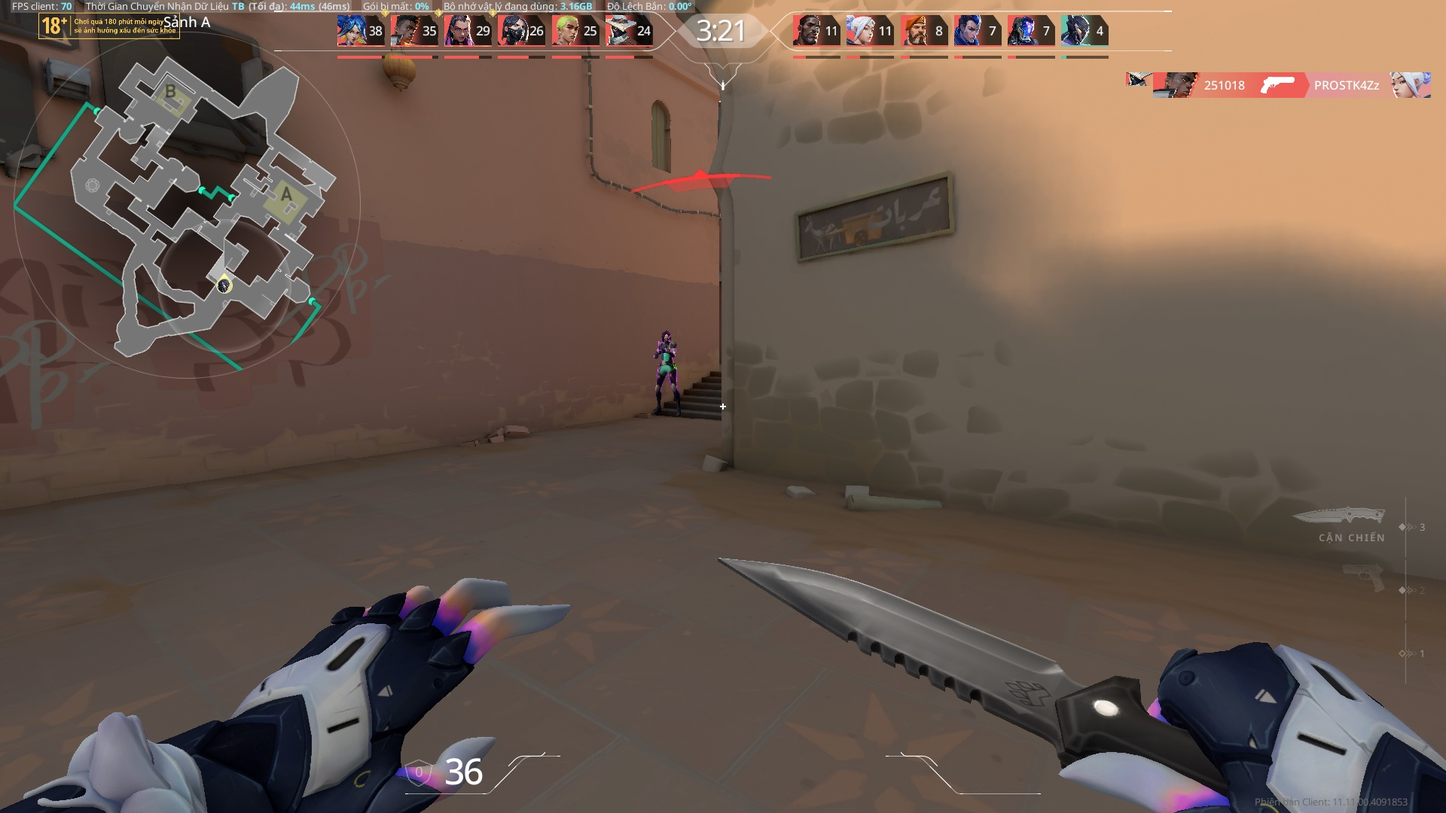body: (654, 336, 677, 371)
head: (660, 328, 672, 341)
